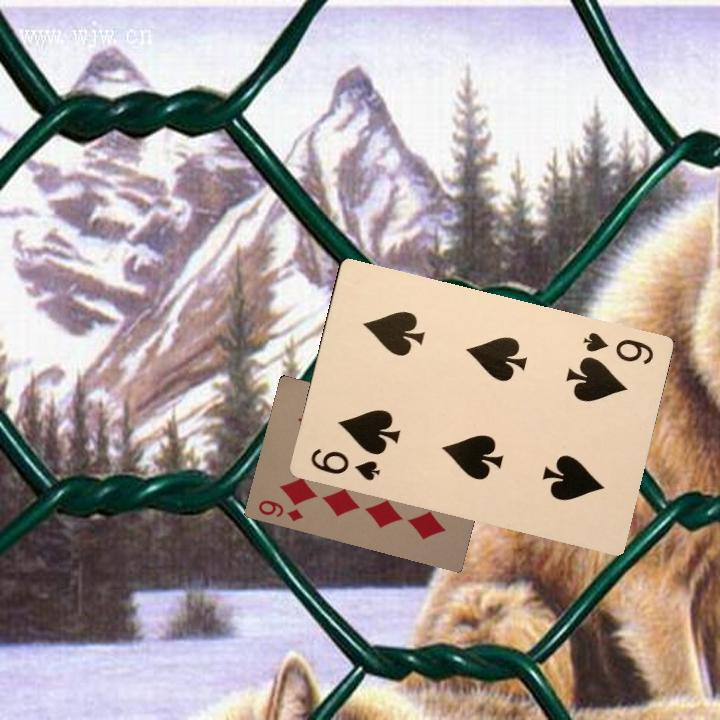6s: (306, 444, 383, 484), (579, 328, 656, 368)
9d: (254, 496, 306, 524)
